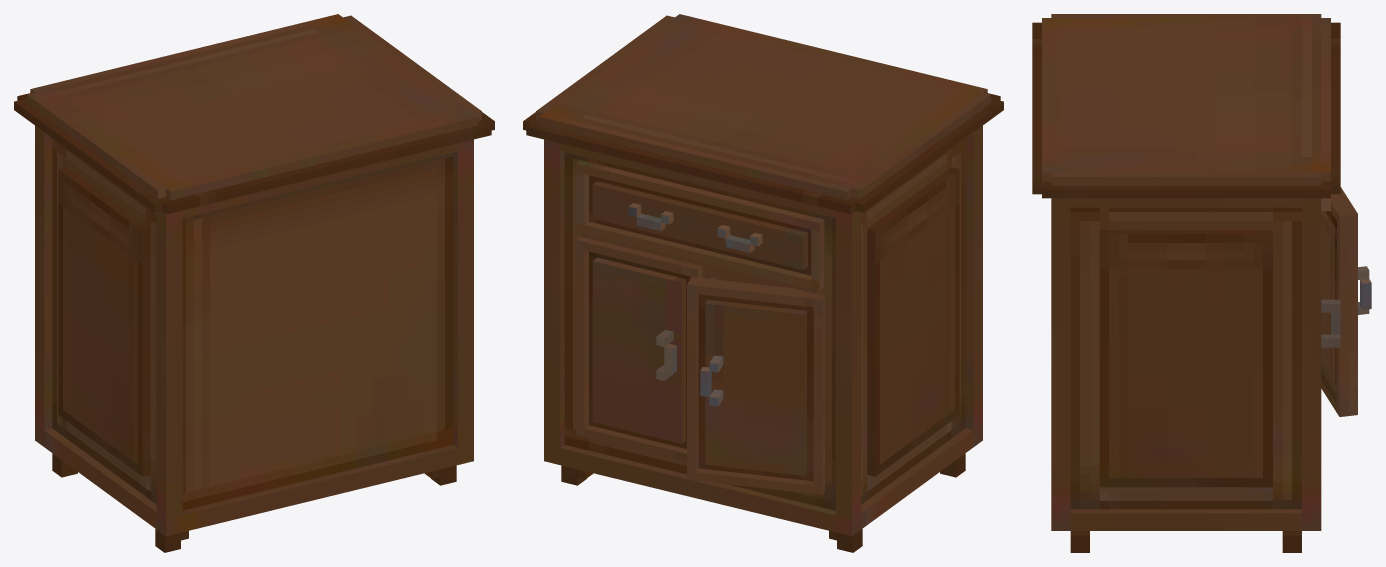
File: cabinet-3.glb
The picture shows the model from 3 angles, left to right: view 1: azimuth 30°, elevation 25°; view 2: azimuth 150°, elevation 25°; view 3: azimuth 270°, elevation 25°; orthographic projection. The views are drawn at different scales.
Parts seen in each view (by area): view 1: Cabinet3_Door1-Local; view 2: Cabinet3_Door1-Local; view 3: Cabinet3_Door1-Local.
Part boxes in pixels (box(x1,y1,x2,y2)): Cabinet3_Door1-Local: box(14, 14, 494, 552); Cabinet3_Door1-Local: box(523, 14, 1003, 552); Cabinet3_Door1-Local: box(1032, 14, 1371, 552).
Size of the model in its own units: 2.38 by 2.5 by 2.
Materials: 4 (4 with a texture image).
